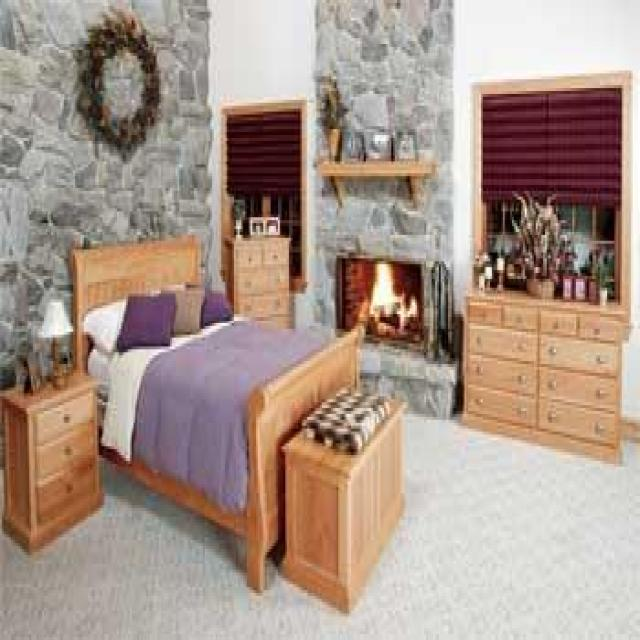bed: (67, 232, 366, 593)
cupboard: (461, 288, 625, 464)
plant: (318, 76, 349, 162)
rugs: (0, 405, 638, 637)
table-lamp: (37, 296, 73, 388)
window: (470, 74, 627, 306)
